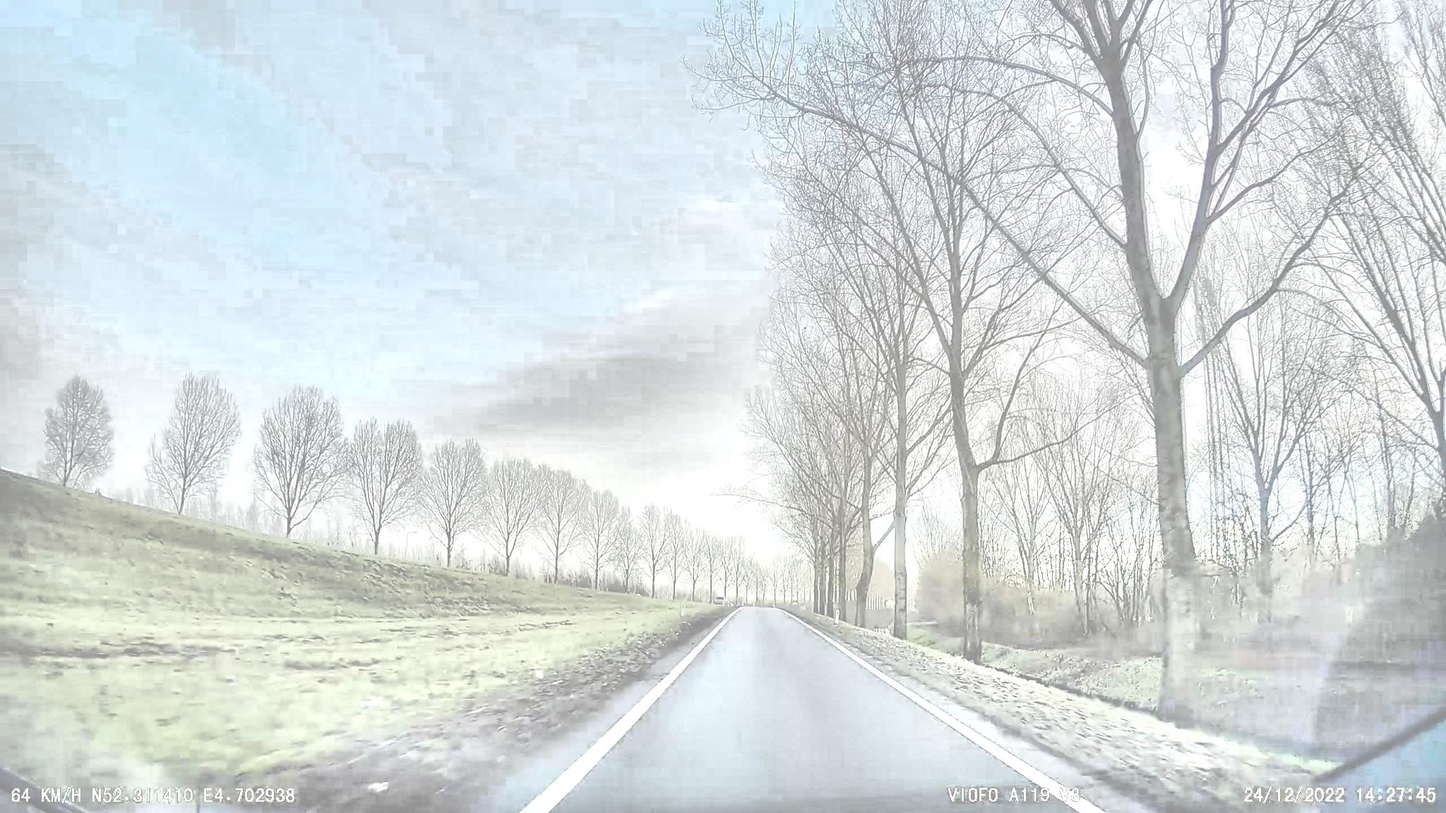Roads: (443, 610, 1173, 813)
